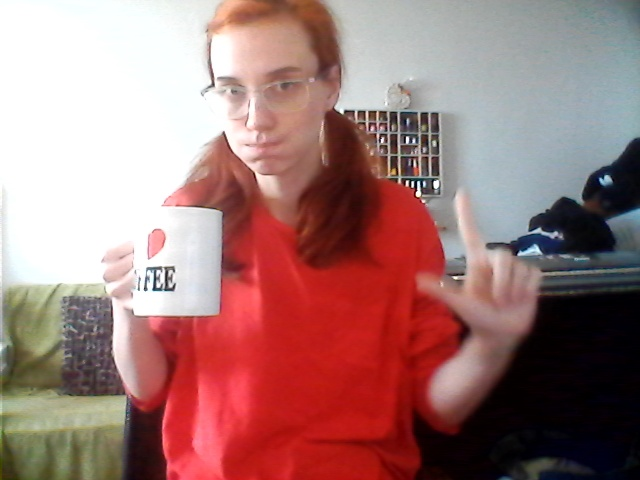l: (407, 188, 544, 346)
